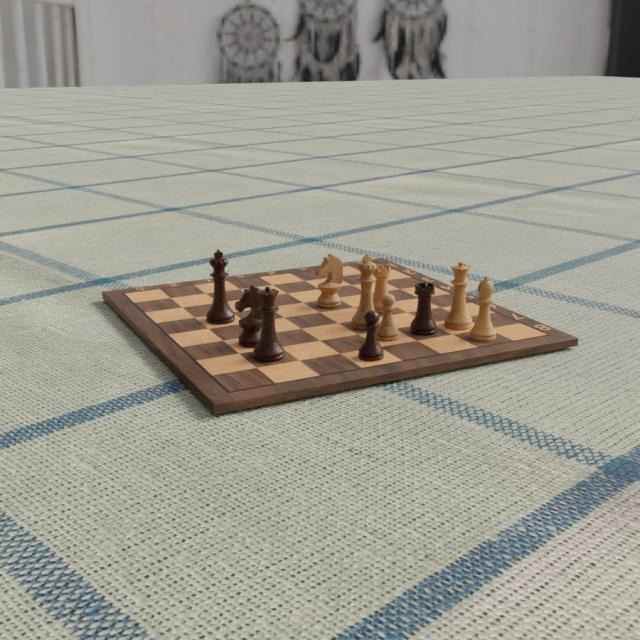black-king: (206, 248, 236, 324)
black-knight: (233, 286, 265, 350)
black-pawn: (357, 310, 385, 362)
black-queen: (251, 286, 284, 362)
black-rook: (409, 280, 437, 336)
white-bishop: (469, 275, 497, 340)
white-king: (350, 253, 378, 330)
white-knight: (315, 253, 345, 309)
white-pawn: (375, 293, 401, 341)
white-queen: (443, 260, 472, 330)
white-rook: (370, 262, 394, 314)
